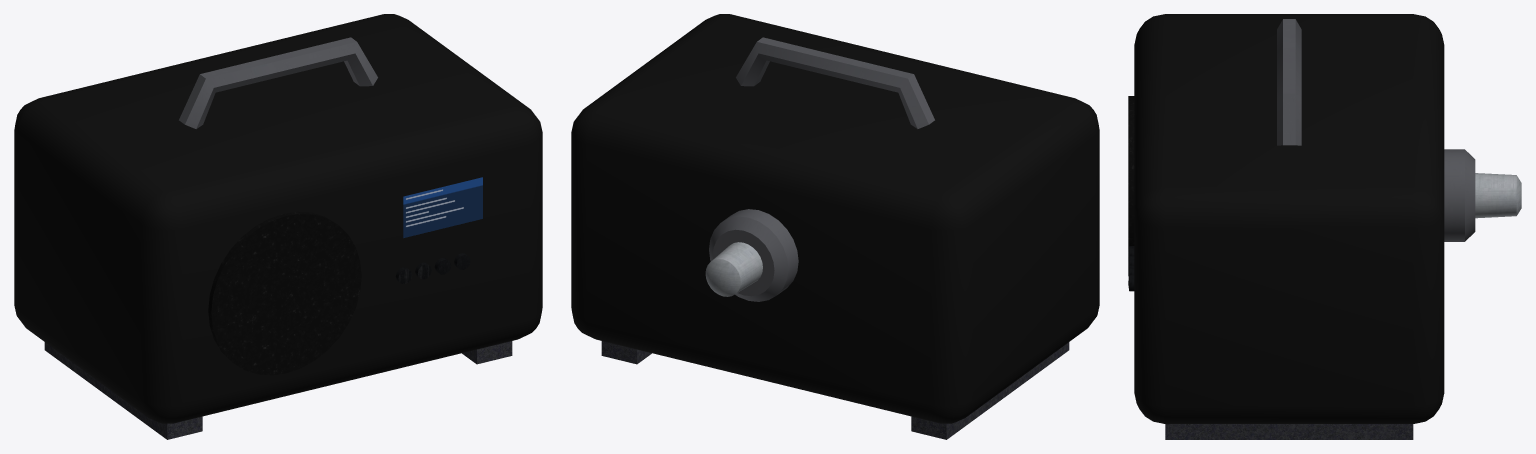
File: fogger.gltf
3 renders of one model, left to right at view 1: azimuth 30°, elevation 25°; view 2: azimuth 150°, elevation 25°; view 3: azimuth 270°, elevation 25°, orthographic.
Parts seen in each view (by area): view 1: fogger; view 2: fogger; view 3: fogger.
Part boxes in pixels (x1,y1,x2,y2): fogger: (14, 14, 542, 439); fogger: (571, 14, 1099, 439); fogger: (1128, 14, 1521, 439).
Size of the model in its own units: 0.45 by 0.3188 by 0.381.
Materials: 7 (7 with a texture image).
